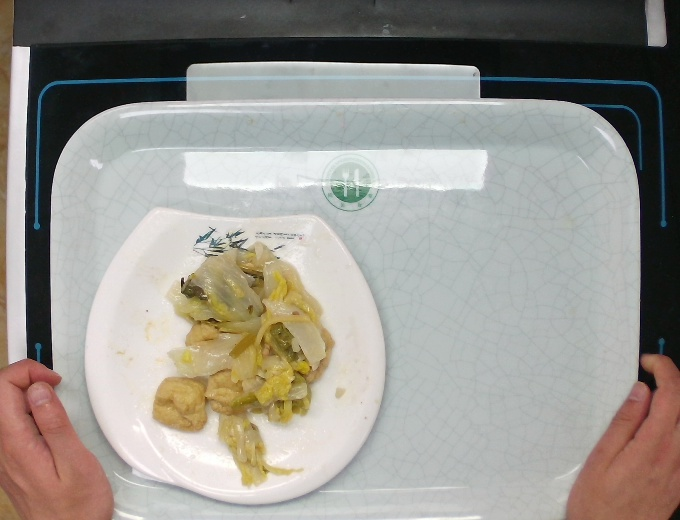JYsf-Mian_Pan: (77, 200, 390, 507)
